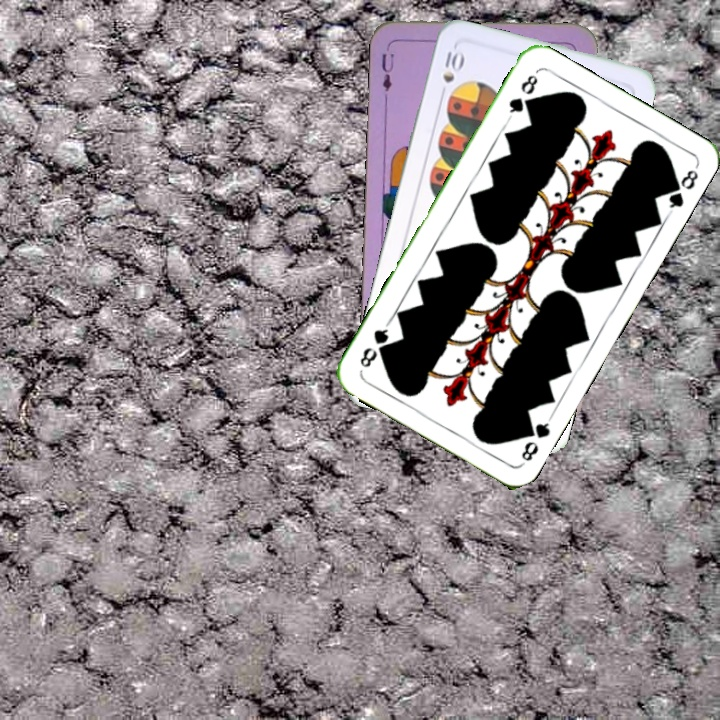EU: (378, 49, 396, 94)
G8: (517, 413, 555, 466), (504, 70, 541, 122)
S10: (436, 47, 466, 101)
